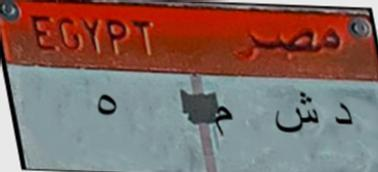5: (90, 84, 125, 132)
daal: (330, 94, 360, 140)
meem: (210, 100, 236, 146)
sheen: (269, 85, 322, 148)
